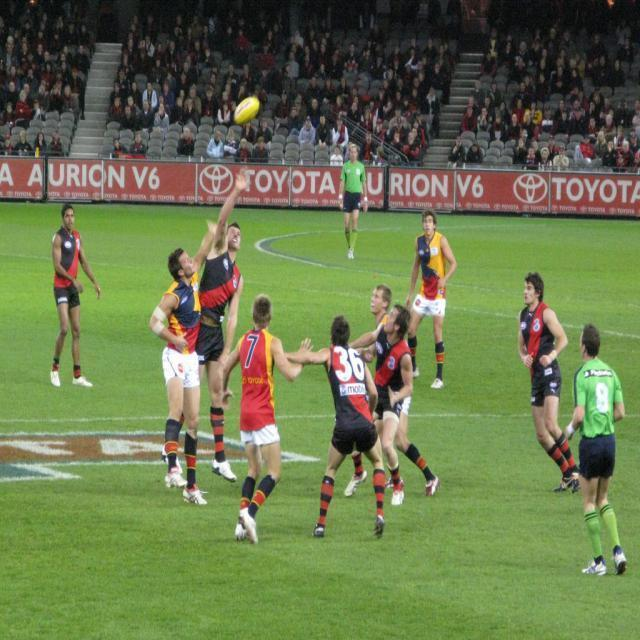ball: (233, 94, 259, 125)
